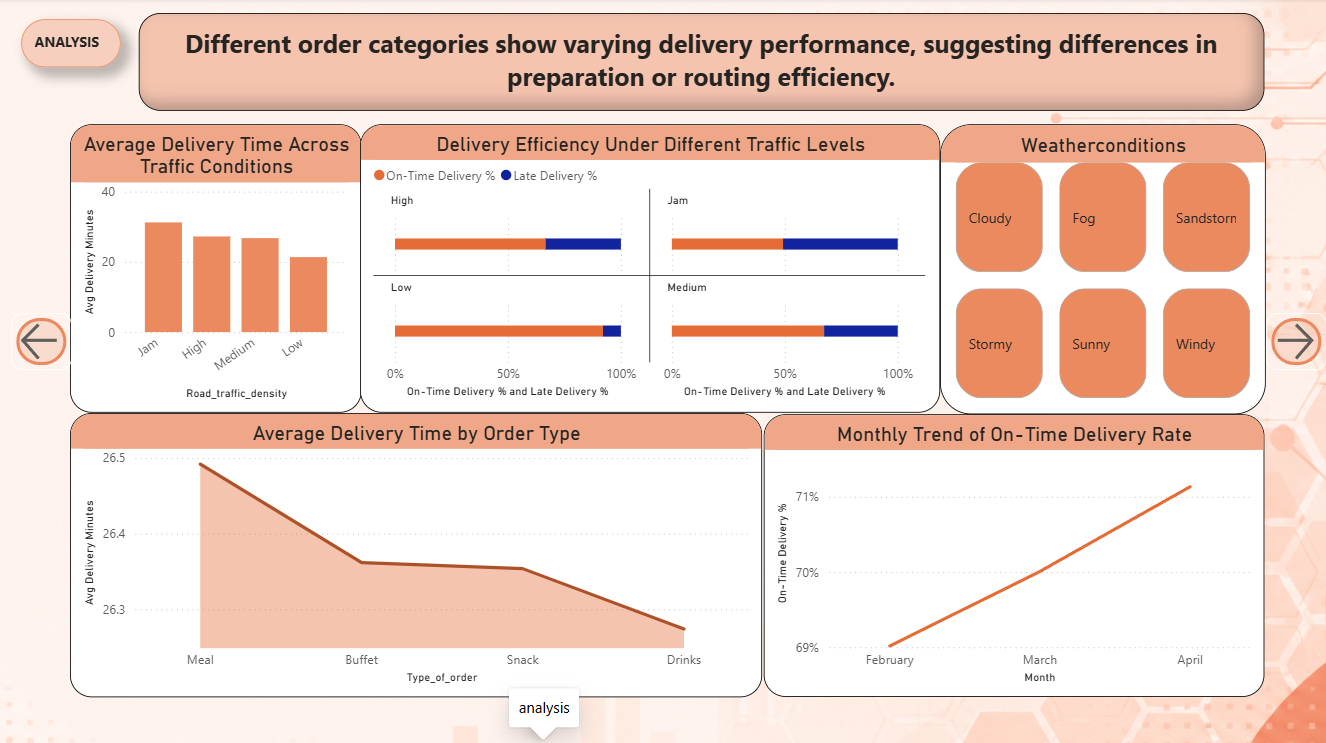

The page's visual inventory and layout, read from the dashboard file:
{"tool":"powerbi","page":{"name":"analysis","canvas":[1280,720],"ordinal":3},"visuals":[{"type":"clusteredColumnChart","title":"Average Delivery Time Across Traffic Conditions","fields":{"Y":["train.Avg Delivery Minutes"],"Category":["train.Road_traffic_density"]},"box":[67.1,121.4,281.4,278.6],"z":0},{"type":"lineChart","title":"Monthly Trend of On-Time Delivery Rate","fields":{"Category":["train.Order_Date.Variation.Date Hierarchy.Month1"],"Y":["train.On-Time Delivery %"]},"box":[737.1,401.4,482.9,272.9],"z":1000},{"type":"barChart","title":"Delivery Efficiency Under Different Traffic Levels","fields":{"Y":["train.On-Time Delivery %","train.Late Delivery %"],"Rows":["train.Road_traffic_density"]},"box":[348,122,560,278],"z":2000},{"type":"areaChart","title":"Average Delivery Time by Order Type","fields":{"Category":["train.Type_of_order"],"Y":["train.Avg Delivery Minutes"]},"box":[68,400,668,274],"z":3000},{"type":"actionButton","box":[1221.5,304.3,58.5,55.5],"z":4000},{"type":"actionButton","box":[10.5,304.3,58.5,55.5],"z":5000},{"type":"textbox","box":[20,20,96.2,46.2],"z":6000},{"type":"advancedSlicerVisual","fields":{"Values":["train.Weatherconditions"]},"box":[907.1,121.4,314.3,280],"z":7000},{"type":"textbox","box":[134,14,1086,94],"z":8000}]}

Visuals, with their boxes in screenshot pixels (x1, y1, x2, y2), scaled from the page's 1280x720 canvas onto the 1326x743 screenshot:
"Average Delivery Time Across Traffic Conditions" clusteredColumnChart: (70, 125, 361, 413)
"Monthly Trend of On-Time Delivery Rate" lineChart: (764, 414, 1264, 696)
"Delivery Efficiency Under Different Traffic Levels" barChart: (361, 126, 941, 413)
"Average Delivery Time by Order Type" areaChart: (70, 413, 762, 696)
actionButton: (1265, 314, 1325, 371)
actionButton: (11, 314, 71, 371)
textbox: (21, 21, 120, 68)
advancedSlicerVisual - train.Weatherconditions: (940, 125, 1265, 414)
textbox: (139, 14, 1264, 111)
